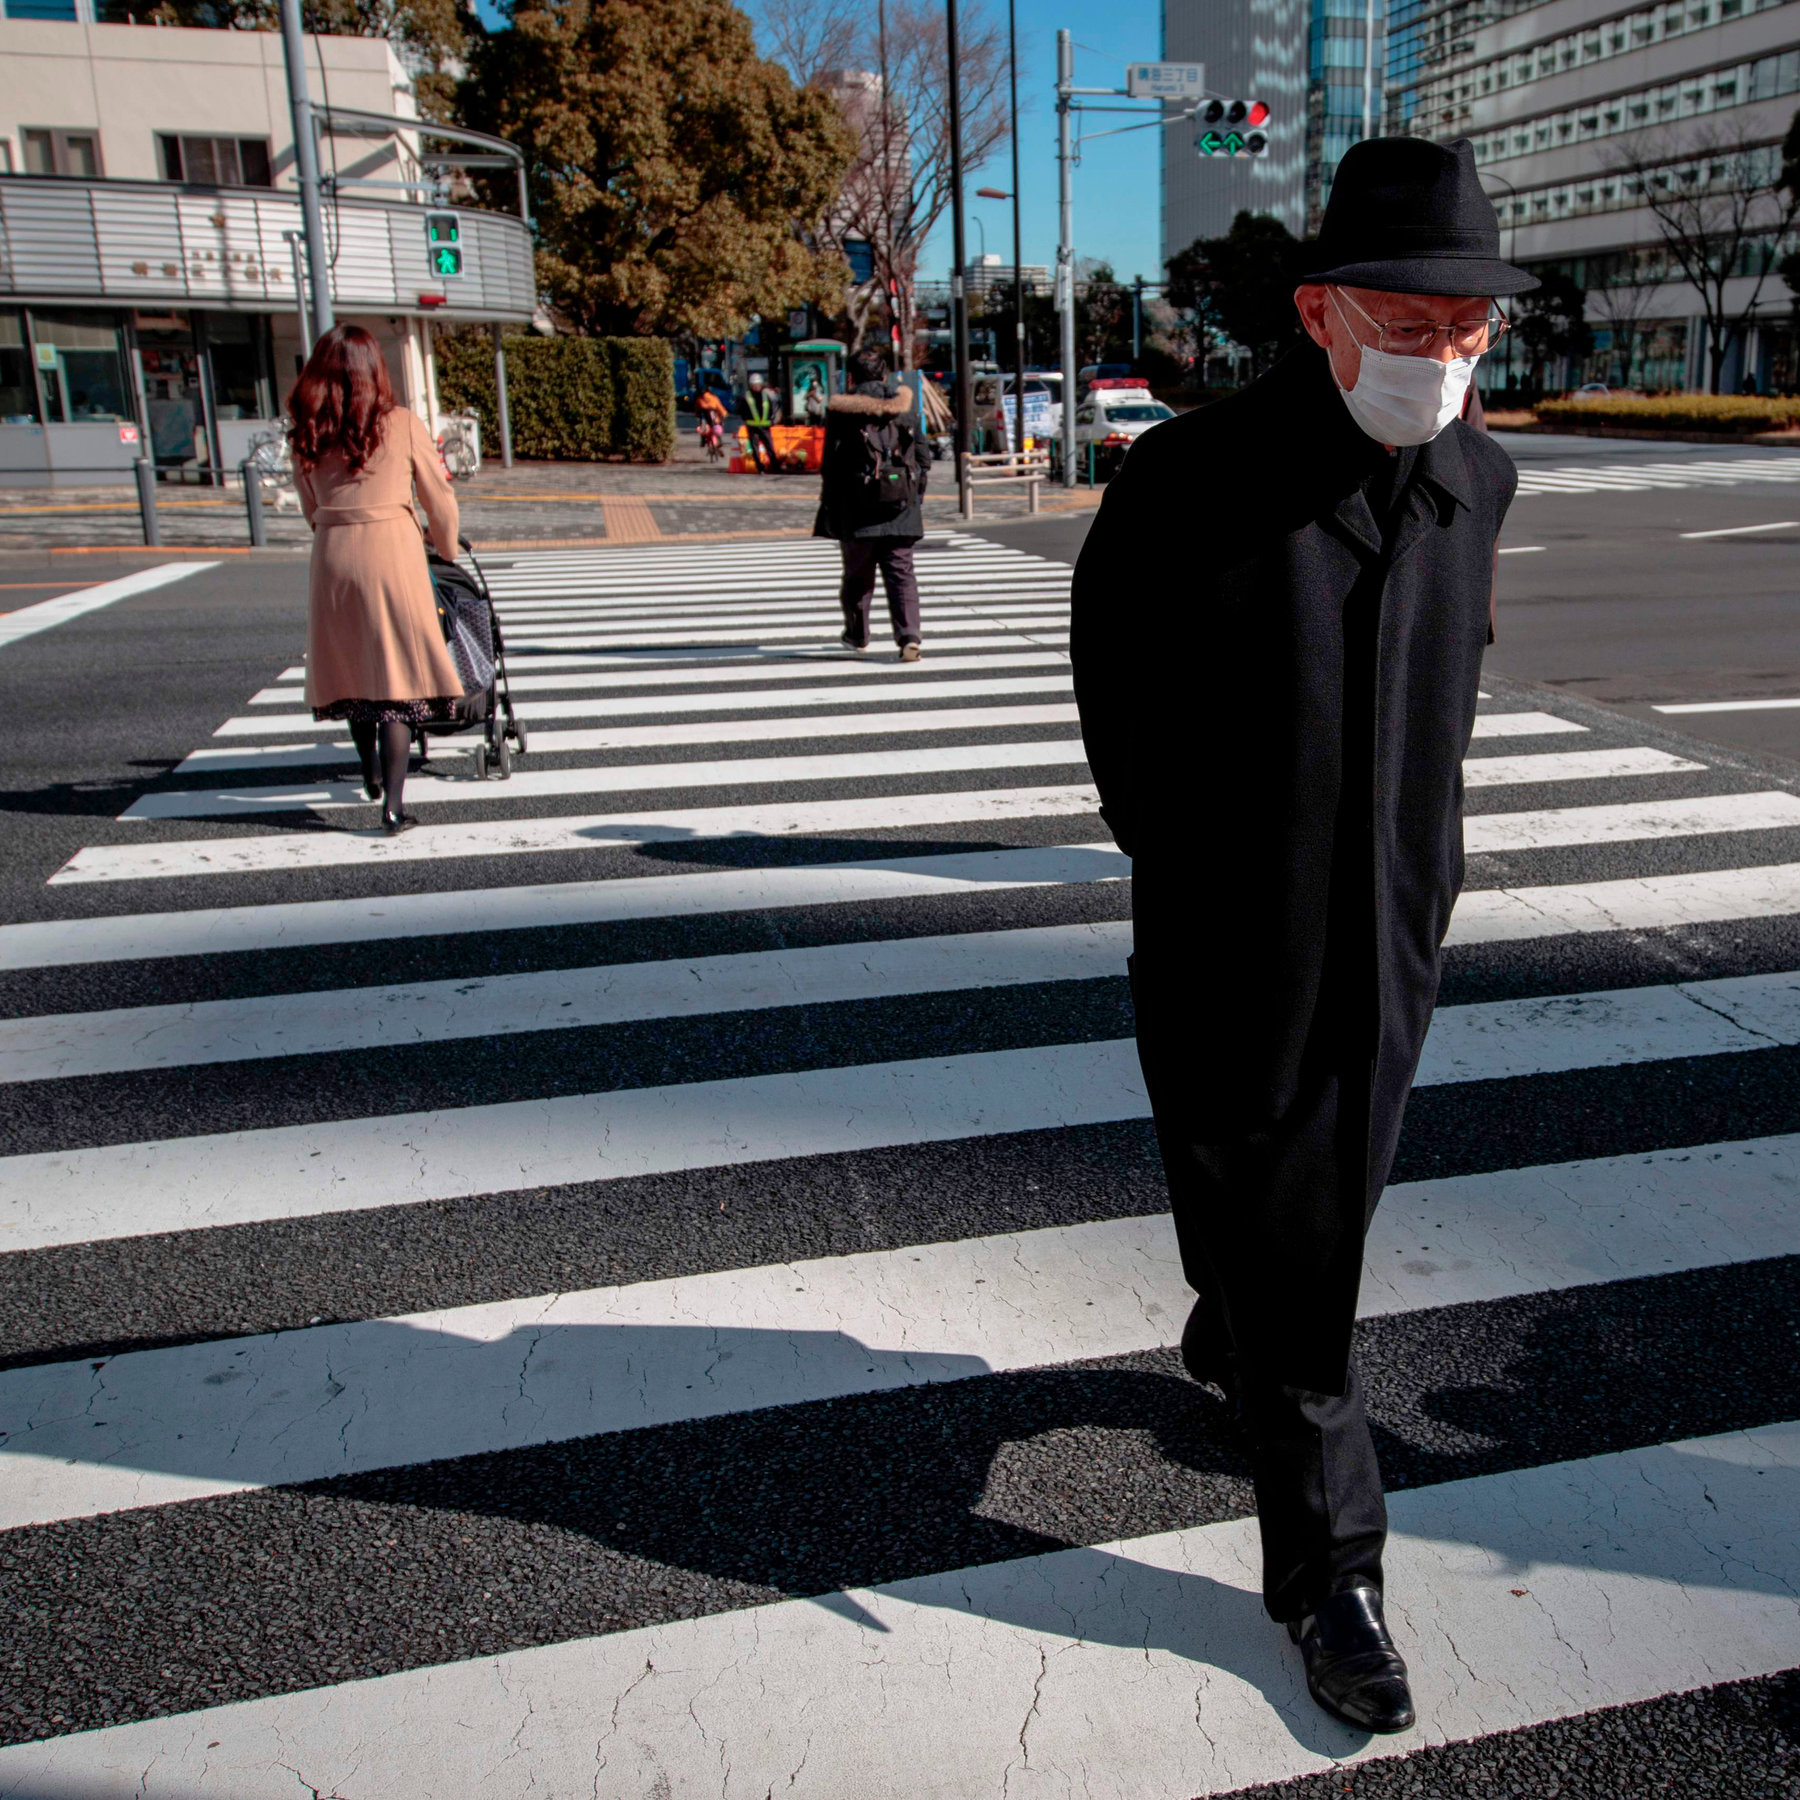person: (1053, 120, 1585, 1756), (267, 297, 596, 840), (785, 336, 974, 672)
